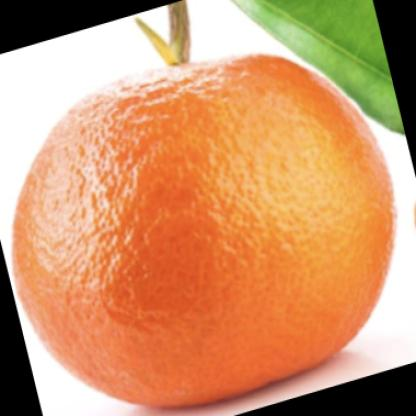fresh: (15, 57, 396, 413)
